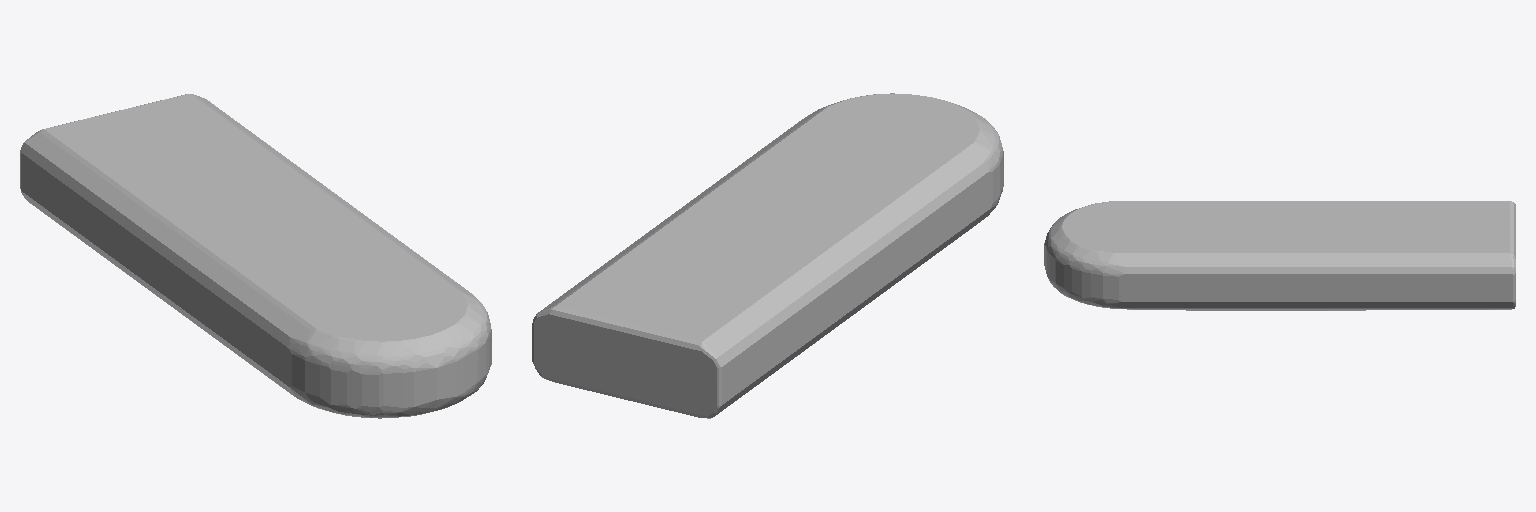
The robot description file, URDF, robot "root":
<?xml version="1.0"?>
<robot name="root">
  <link name="base_link">
    <visual>
      <origin xyz="0 0 0" rpy="0 0 0" />
      <geometry>
        <mesh filename="../meshes/unidex_core_remote-c99bbef1b2c514a81b22d29e47ec3f2_008.obj" scale="1.0000E+00 1.0000E+00 1.0000E+00" />
      </geometry>
      <material name="">
        <color rgba="7.50E-01 7.50E-01 7.50E-01 1" />
      </material>
    </visual>
    <collision>
      <origin xyz="0 0 0" rpy="0 0 0" />
      <geometry>
        <mesh filename="../meshes/unidex_core_remote-c99bbef1b2c514a81b22d29e47ec3f2_008.obj" scale="1.0000E+00 1.0000E+00 1.0000E+00" />
      </geometry>
    </collision>
  </link>
</robot>

--- Facts derived from the render (not from the file) ---
Views: 3 orthographic renders of the robot side by side, from view 1: azimuth 30°, elevation 25°; view 2: azimuth 150°, elevation 25°; view 3: azimuth 270°, elevation 25°.
Model root with 1 links and 0 joints (none), rooted at base_link, posed all joints at 0.
Visible links, largest first — view 1: base_link; view 2: base_link; view 3: base_link.
Boxes of the visible links, box(x1,y1,x2,y2) form: base_link: box(20, 94, 491, 418); base_link: box(532, 93, 1003, 418); base_link: box(1044, 201, 1515, 310).
Bounding box of the posed robot: 0.0501 × 0.1486 × 0.021 m (x, y, z).
1 mesh visuals loaded from 1 distinct referenced files (1 OBJ).
